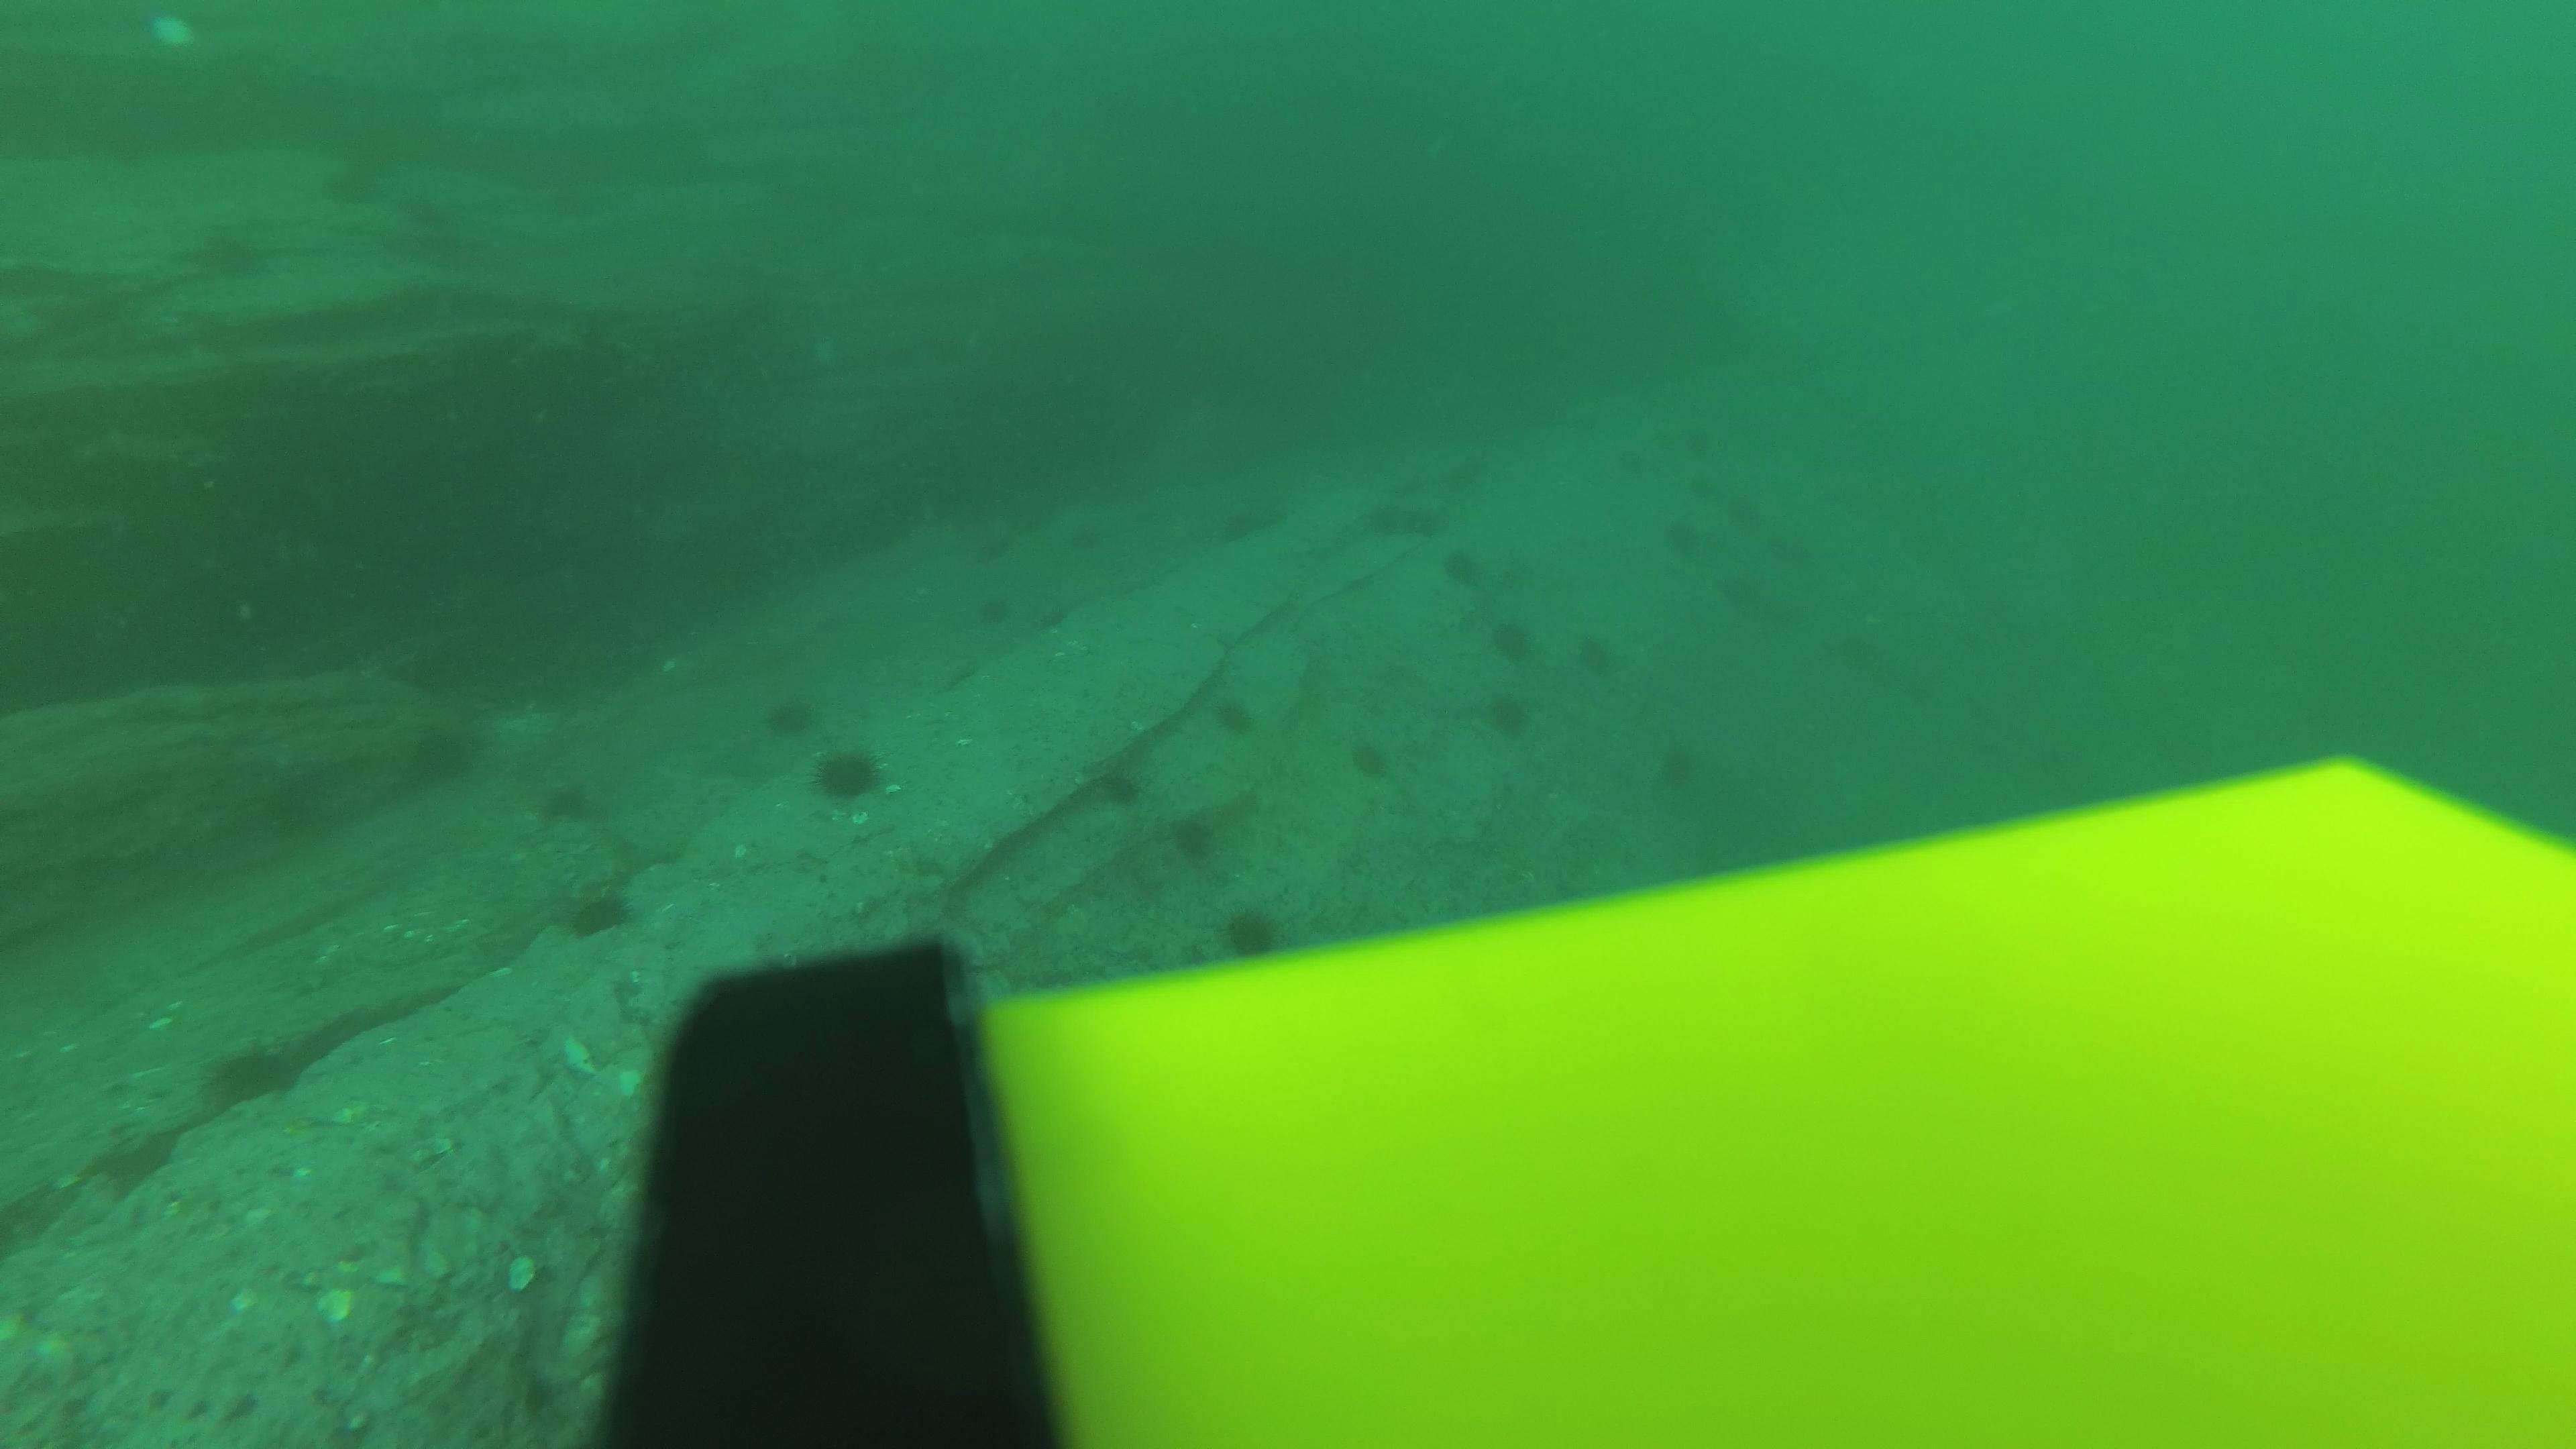echinus: (202, 1033, 308, 1113), (400, 715, 485, 791), (189, 216, 274, 287), (810, 740, 888, 807), (1214, 899, 1290, 964), (563, 878, 637, 941), (534, 771, 598, 828), (1086, 754, 1148, 810), (1166, 809, 1221, 865), (763, 688, 817, 740), (1484, 690, 1536, 743), (1652, 740, 1702, 794), (1362, 501, 1412, 554), (1562, 635, 1612, 688), (1706, 561, 1755, 614), (1346, 732, 1396, 784), (1490, 614, 1536, 667), (971, 584, 1024, 630), (1210, 692, 1258, 741), (1214, 506, 1269, 547), (1660, 515, 1704, 561), (1438, 547, 1484, 591), (1674, 412, 1720, 455), (1723, 495, 1769, 538), (1067, 524, 1109, 566), (1403, 499, 1445, 540), (1767, 529, 1813, 566), (971, 533, 1019, 568), (1031, 600, 1076, 637), (1614, 439, 1652, 479), (1683, 469, 1721, 501), (938, 665, 977, 694)
starfish: (80, 1118, 182, 1196)
